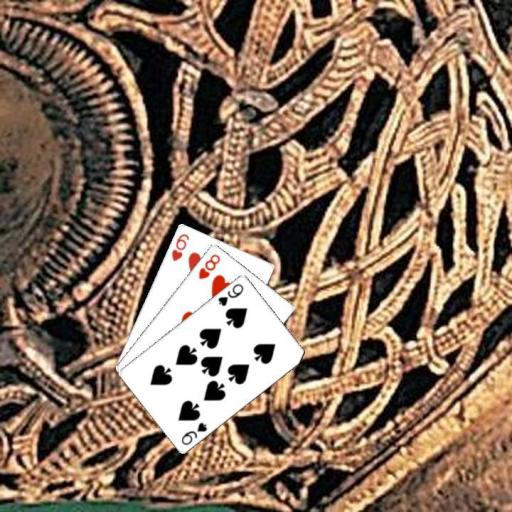6H: (168, 231, 191, 263)
8H: (195, 250, 222, 280)
9S: (215, 280, 245, 307), (179, 419, 209, 446)
